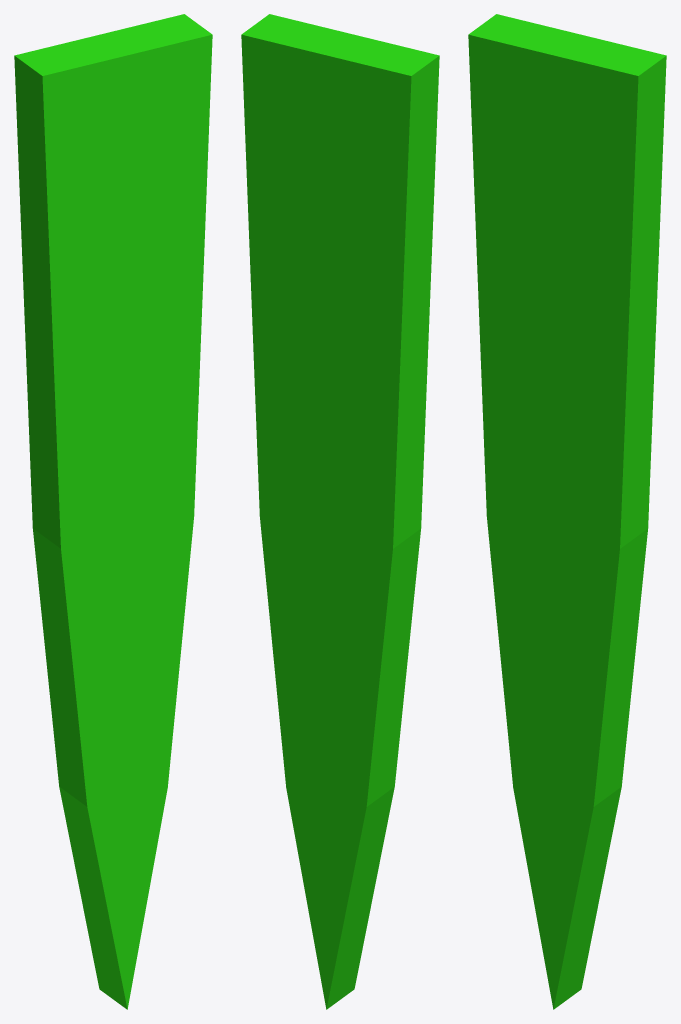
File: grass.fbx
The picture shows the model from 3 angles, left to right: view 1: azimuth 30°, elevation 25°; view 2: azimuth 150°, elevation 25°; view 3: azimuth 330°, elevation 25°; orthographic projection.
Visible parts, largest first — view 1: Plane.002; view 2: Plane.002; view 3: Plane.002.
Boxes of the visible parts, <box> form: Plane.002: <box>14,14,212,1009</box>; Plane.002: <box>241,14,439,1009</box>; Plane.002: <box>468,14,666,1009</box>.
Size of the model in its own units: 79.99 by 429 by 22.94.
